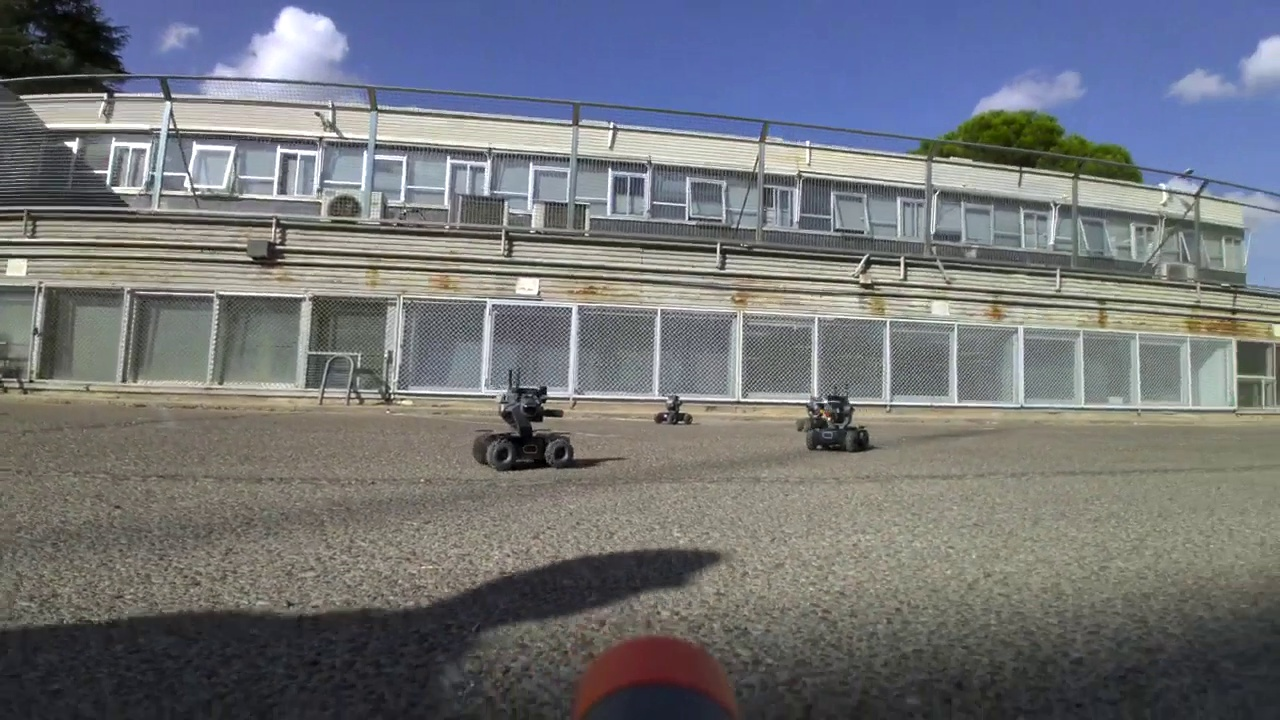robot: (471, 367, 576, 470), (800, 380, 870, 451), (652, 392, 693, 424)
